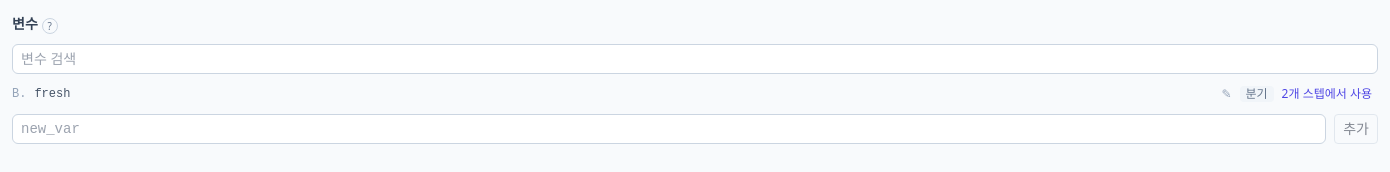
Test: VariablesPanel › R7: filters a parallel-extract row by branch name alone, var name alone, and full branch.var display
This screenshot has width=1390, height=172.
# (a) branch name alone
Type "b" into the field with placeholder "변수 검색".
click(695, 59); type("b")  # box [12, 44, 1378, 74]
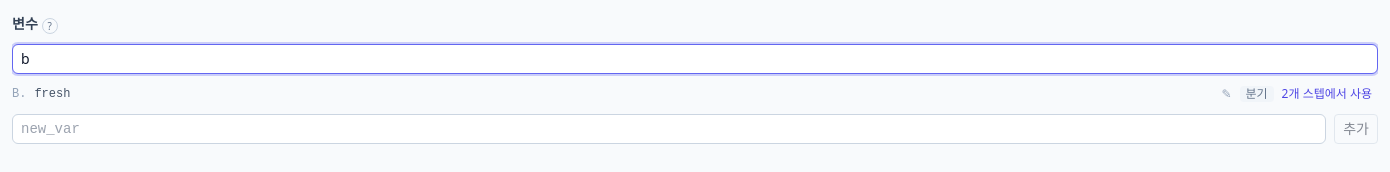
# (b) var name alone
Replace the text in the field with placeholder "변수 검색" with "FRE" at (695, 59), box [12, 44, 1378, 74]
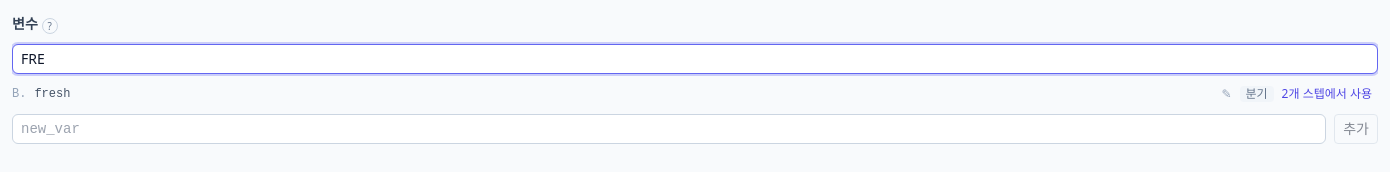
# (c) full "branch.var" display, case-insensitively
Replace the text in the field with placeholder "변수 검색" with "B.FRESH" at (695, 59), box [12, 44, 1378, 74]
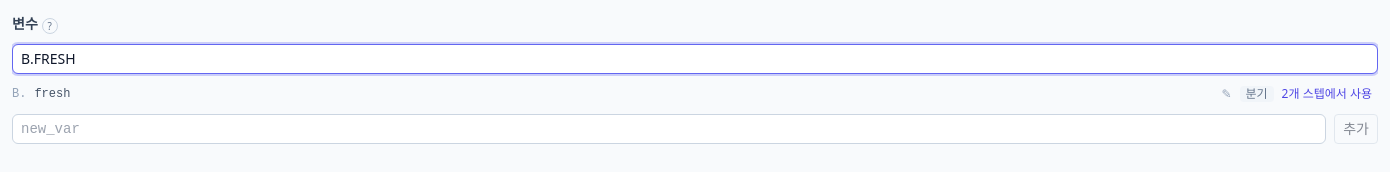
# non-matching query hides the row
Replace the text in the field with placeholder "변수 검색" with "zzz" at (695, 59), box [12, 44, 1378, 74]
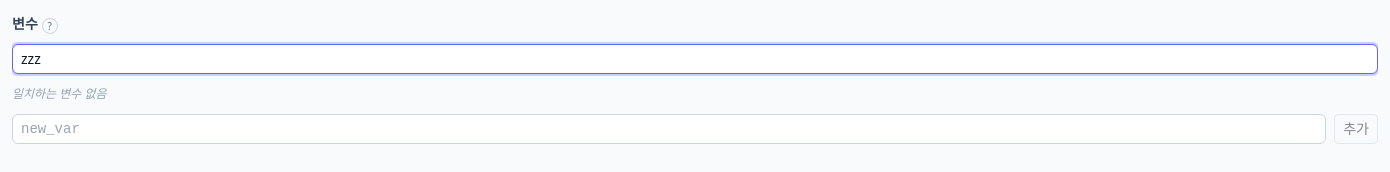
Result: the list item "일치하는 변수 없음" is shown at [12, 86, 107, 102]
